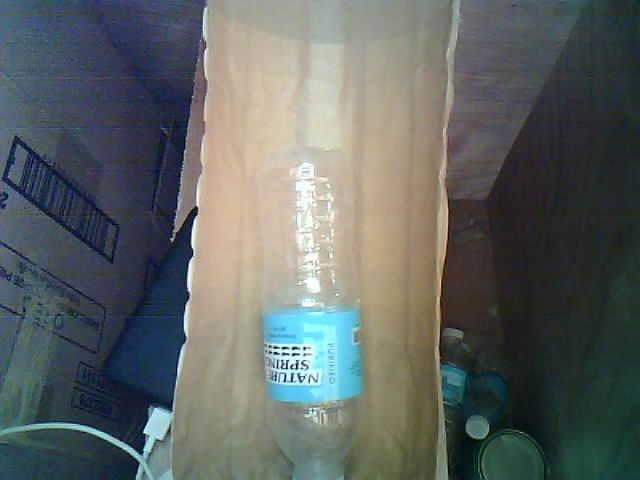small_bottle: (244, 136, 372, 480)
